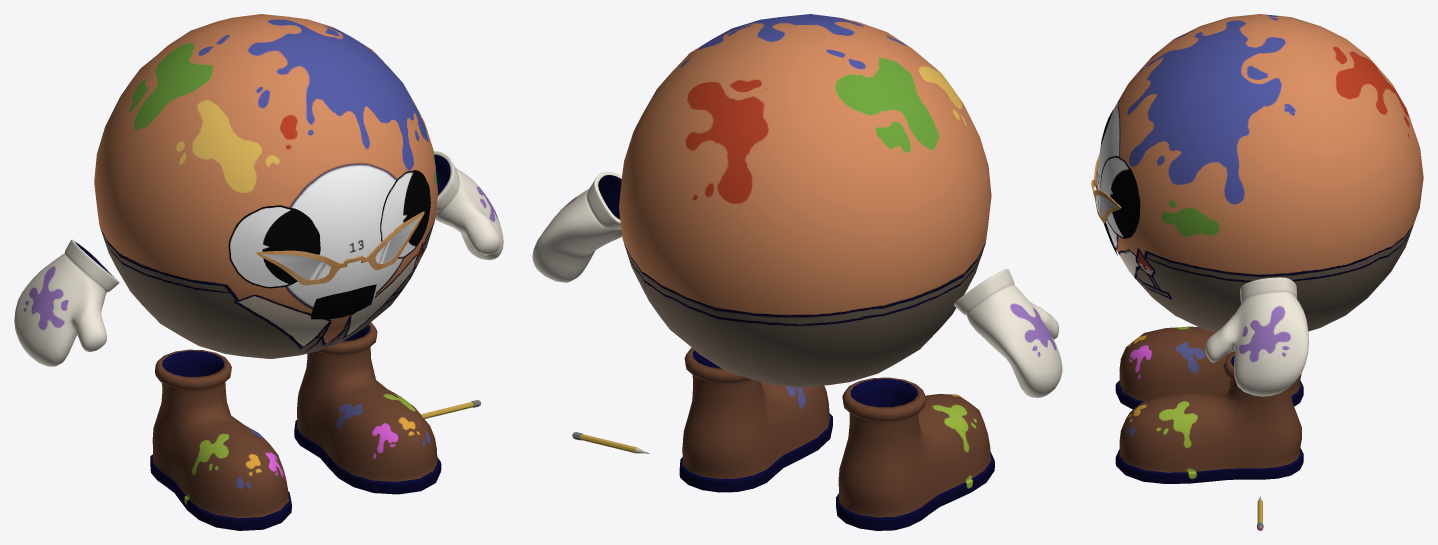
The model's file is Chara_MOD_Musee2_002.fbx.
3 renders of one model, left to right at view 1: azimuth 30°, elevation 25°; view 2: azimuth 150°, elevation 25°; view 3: azimuth 270°, elevation 25°, orthographic. The views are drawn at different scales.
Parts seen in each view (by area): view 1: Character_Personnage_JoueurMOD, shoes:Shoe_NO1_Left_Msh, shoes:Shoe_NO1_RIght_Msh, R_Glove_Hand_MOD, R_Eyes_MOD, L_Glove_Hand_MOD, L_Eyes_MOD, Glasses_003_MOD_001_4, Mouth_MOD, Glasses_003_MOD, Glasses_003_MOD_001_5; view 2: Character_Personnage_JoueurMOD, shoes:Shoe_NO1_Left_Msh, shoes:Shoe_NO1_RIght_Msh, R_Glove_Hand_MOD, L_Glove_Hand_MOD; view 3: Character_Personnage_JoueurMOD, shoes:Shoe_NO1_RIght_Msh, L_Glove_Hand_MOD, shoes:Shoe_NO1_Left_Msh, L_Eyes_MOD, Glasses_003_MOD_001_4.
Part boxes in pixels (box(x1,y1,x2,y2)): Character_Personnage_JoueurMOD: box(94, 14, 437, 358); shoes:Shoe_NO1_Left_Msh: box(150, 349, 291, 530); shoes:Shoe_NO1_RIght_Msh: box(294, 322, 441, 494); R_Glove_Hand_MOD: box(14, 239, 119, 366); R_Eyes_MOD: box(228, 205, 320, 288); L_Glove_Hand_MOD: box(433, 151, 503, 260); L_Eyes_MOD: box(380, 170, 430, 258); Glasses_003_MOD_001_4: box(256, 211, 424, 285); Mouth_MOD: box(311, 284, 376, 319); Glasses_003_MOD: box(261, 254, 330, 279); Glasses_003_MOD_001_5: box(375, 216, 420, 263); Character_Personnage_JoueurMOD: box(619, 14, 991, 387); shoes:Shoe_NO1_Left_Msh: box(836, 377, 994, 530); shoes:Shoe_NO1_RIght_Msh: box(679, 347, 832, 492); R_Glove_Hand_MOD: box(954, 269, 1062, 397); L_Glove_Hand_MOD: box(532, 171, 621, 282); Character_Personnage_JoueurMOD: box(1097, 14, 1423, 332); shoes:Shoe_NO1_RIght_Msh: box(1115, 352, 1303, 483); L_Glove_Hand_MOD: box(1205, 277, 1308, 396); shoes:Shoe_NO1_Left_Msh: box(1115, 326, 1303, 409); L_Eyes_MOD: box(1100, 156, 1140, 238); Glasses_003_MOD_001_4: box(1091, 154, 1121, 223).
Bounding box in the file's own units: 1.43 × 1.24 × 0.9251.
7 materials, 7 textured.
